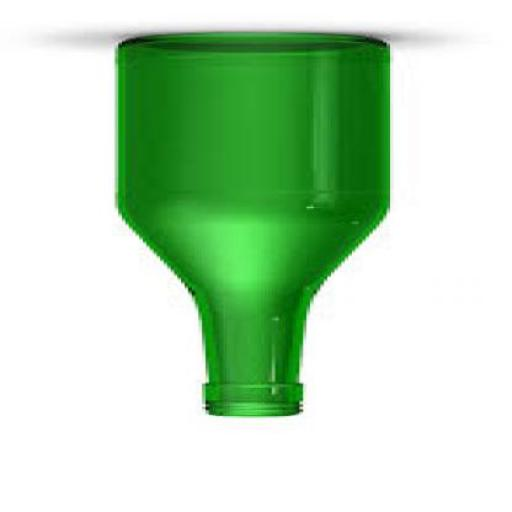glass: (111, 34, 387, 418)
